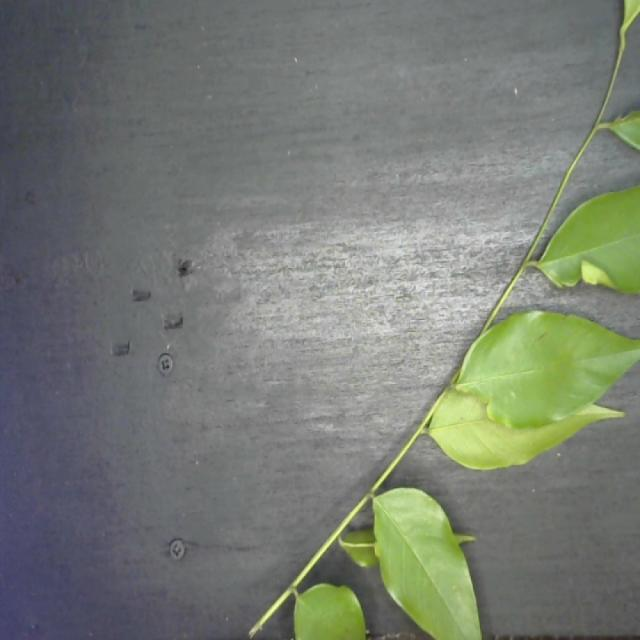biodegradable: (244, 0, 640, 640)
